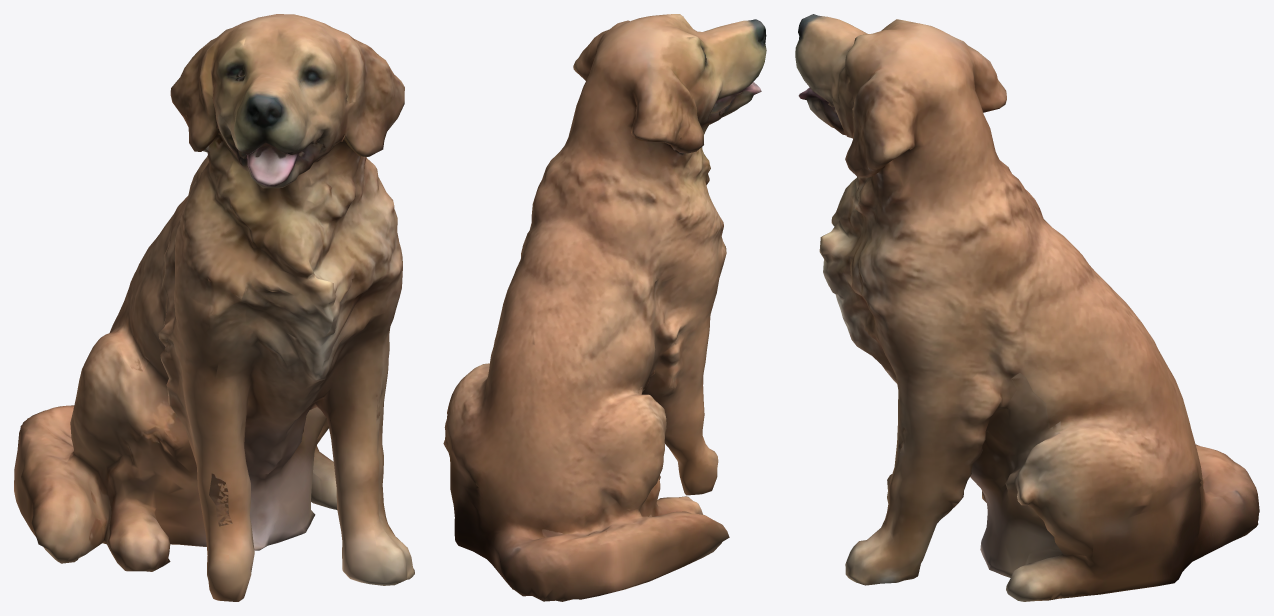
File: golden_retriever_sitting.opt.glb
The picture shows the model from 3 angles, left to right: view 1: azimuth 30°, elevation 25°; view 2: azimuth 150°, elevation 25°; view 3: azimuth 270°, elevation 25°; orthographic projection. The views are drawn at different scales.
Parts seen in each view (by area): view 1: geo1_MAT_Dog_GoldenRetriever_Sitting_0; view 2: geo1_MAT_Dog_GoldenRetriever_Sitting_0; view 3: geo1_MAT_Dog_GoldenRetriever_Sitting_0.
Part boxes in pixels (x1,y1,x2,y2): geo1_MAT_Dog_GoldenRetriever_Sitting_0: [14, 14, 414, 601]; geo1_MAT_Dog_GoldenRetriever_Sitting_0: [443, 14, 766, 601]; geo1_MAT_Dog_GoldenRetriever_Sitting_0: [795, 14, 1259, 601].
Bounding box in the file's own units: 0.3232 × 0.5481 × 0.4512.
1 material, 1 textured.
